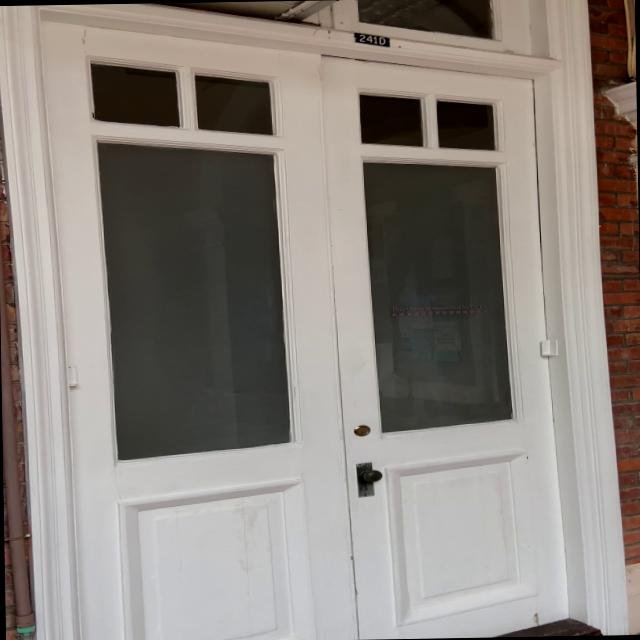room241d: (346, 28, 394, 48)
